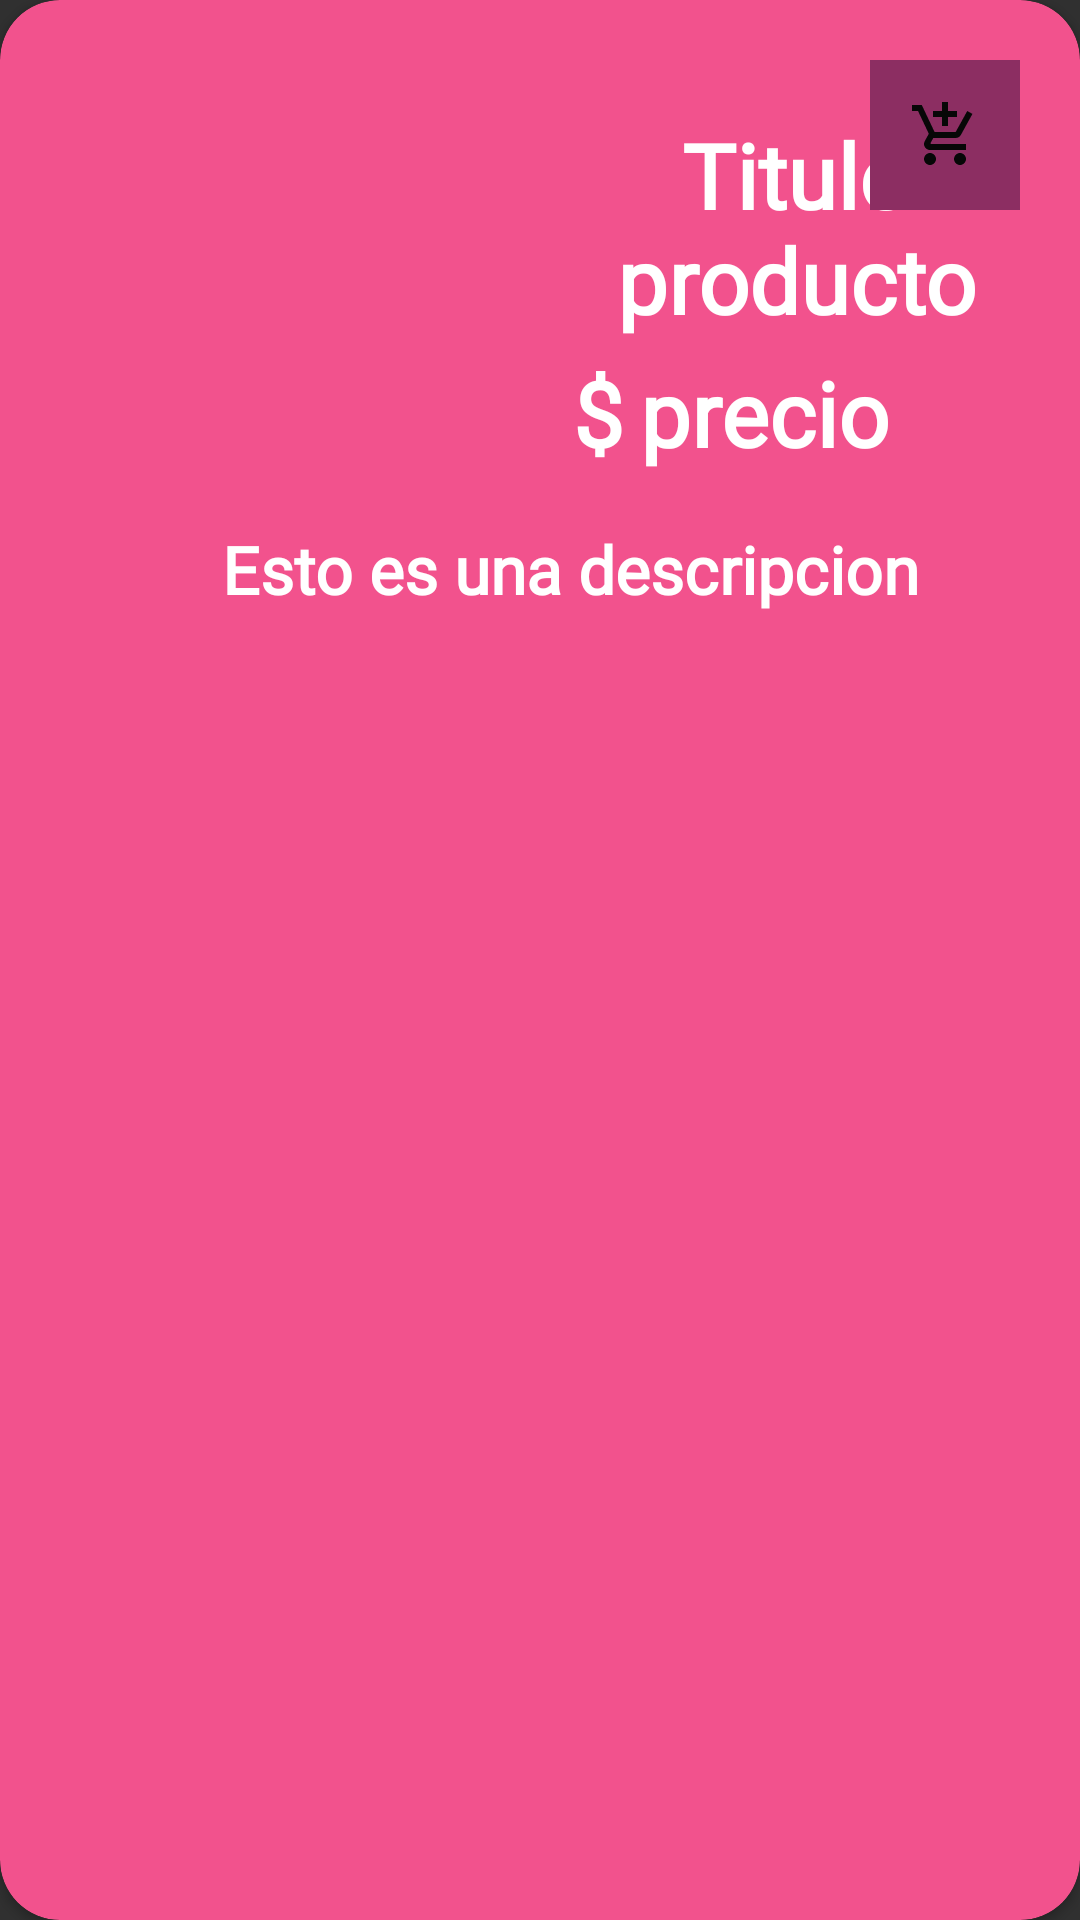

Icons on this 1080x1920 Android screen, each with its box as (x1, y1, x2, y2):
add shopping cart: (870, 60, 1020, 210)
